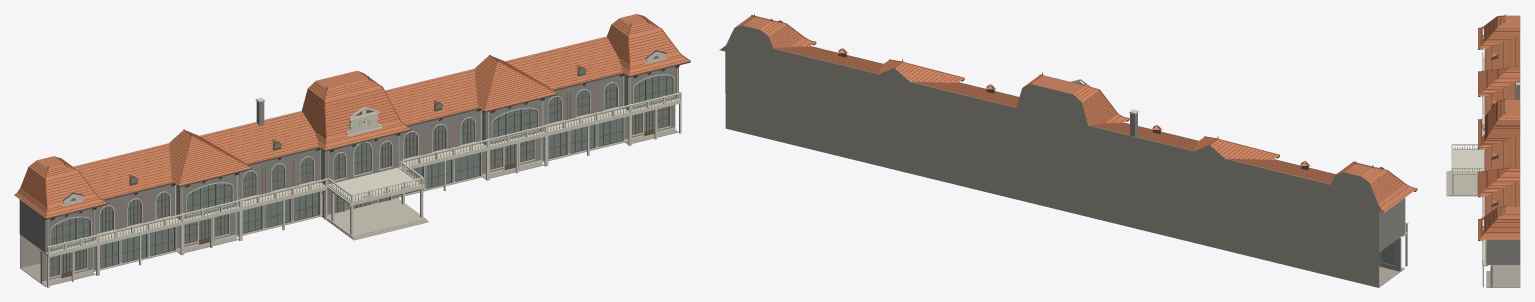
The model's file is huangpu-science-hall-building-one-raw.glb.
3 renders of one model, left to right at view 1: azimuth 30°, elevation 25°; view 2: azimuth 150°, elevation 25°; view 3: azimuth 270°, elevation 25°, orthographic. The views are drawn at different scales.
Visible parts, largest first — view 1: 上海科学会堂一号楼（南花园五亭立面）; view 2: 上海科学会堂一号楼（南花园五亭立面）; view 3: 上海科学会堂一号楼（南花园五亭立面）.
Boxes of the visible parts, x1=… form: 上海科学会堂一号楼（南花园五亭立面）: x1=14, y1=14, x2=690, y2=287; 上海科学会堂一号楼（南花园五亭立面）: x1=719, y1=14, x2=1417, y2=287; 上海科学会堂一号楼（南花园五亭立面）: x1=1446, y1=14, x2=1520, y2=287.
Bounding box in the file's own units: 104 × 18.23 × 15.38.
